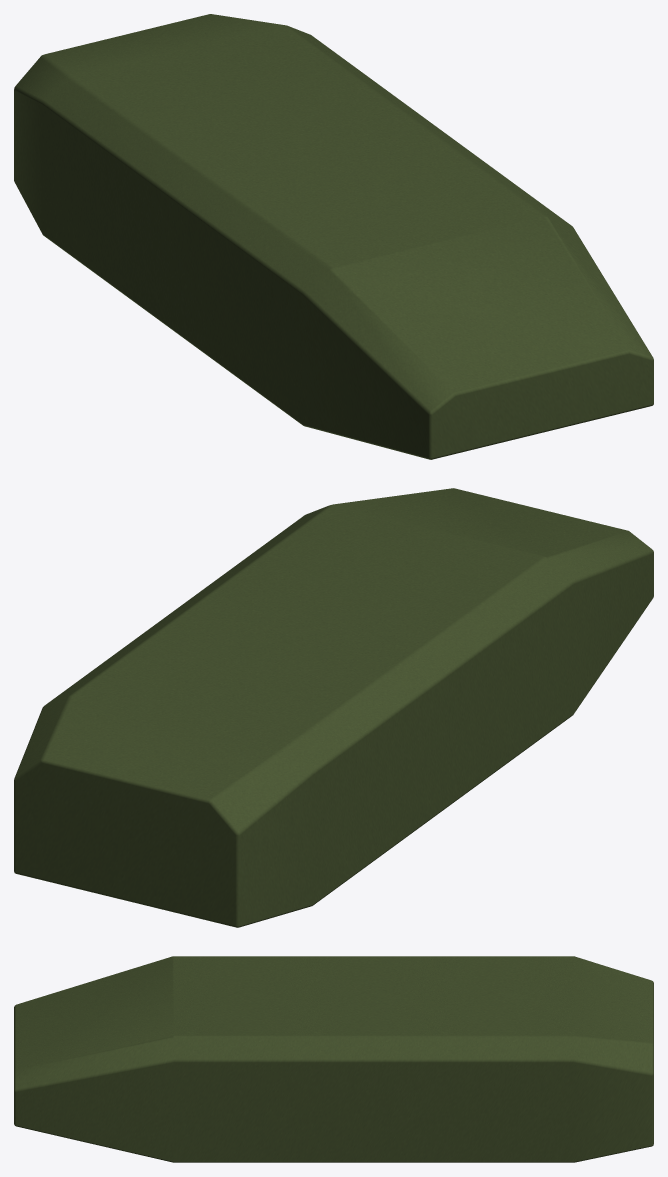
3 renders of one model, top to bottom at view 1: azimuth 30°, elevation 25°; view 2: azimuth 150°, elevation 25°; view 3: azimuth 270°, elevation 25°, orthographic. The views are drawn at different scales.
Size of the model in its own units: 2.7 by 1.45 by 7.2.
Materials: 1 (1 with a texture image).
